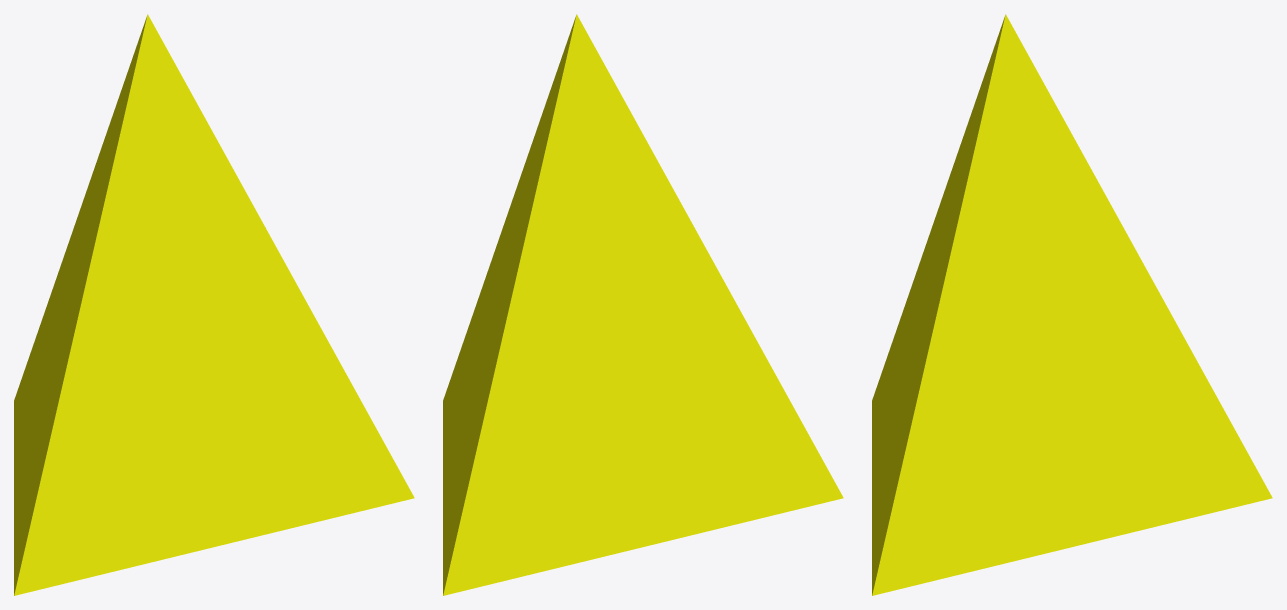
3 views of the same model, side by side, from view 1: azimuth 30°, elevation 25°; view 2: azimuth 150°, elevation 25°; view 3: azimuth 270°, elevation 25° (orthographic).
Parts seen in each view (by area): view 1: Cone; view 2: Cone; view 3: Cone.
Part boxes in pixels (box(x1,y1,x2,y2)): Cone: box(14, 14, 414, 595); Cone: box(443, 14, 843, 595); Cone: box(872, 14, 1272, 595).
Bounding box in the file's own units: 1.73 × 2 × 1.5.
